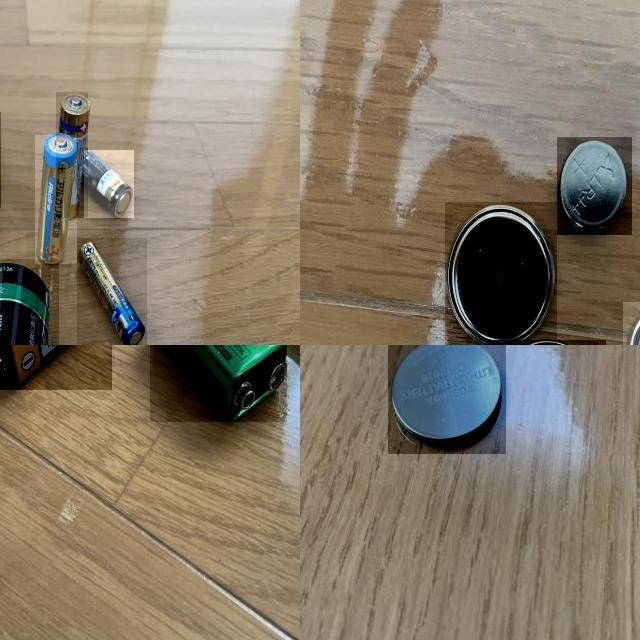9V: (150, 345, 287, 422), (0, 345, 112, 390)
